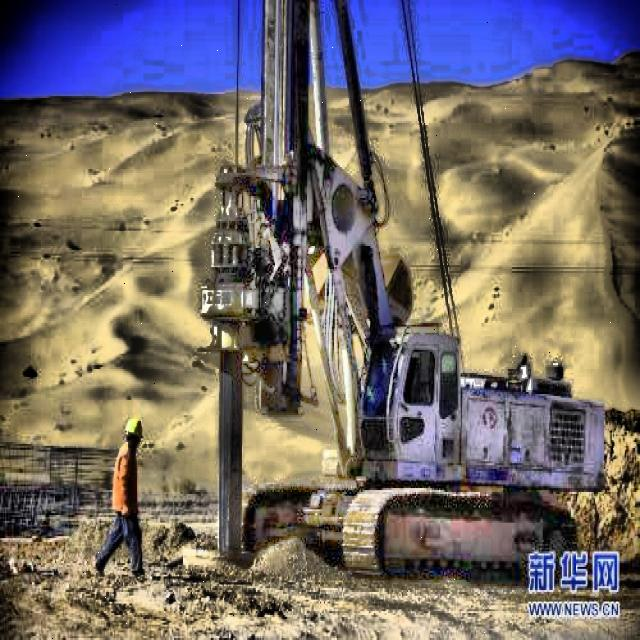helmet: (122, 409, 148, 452)
